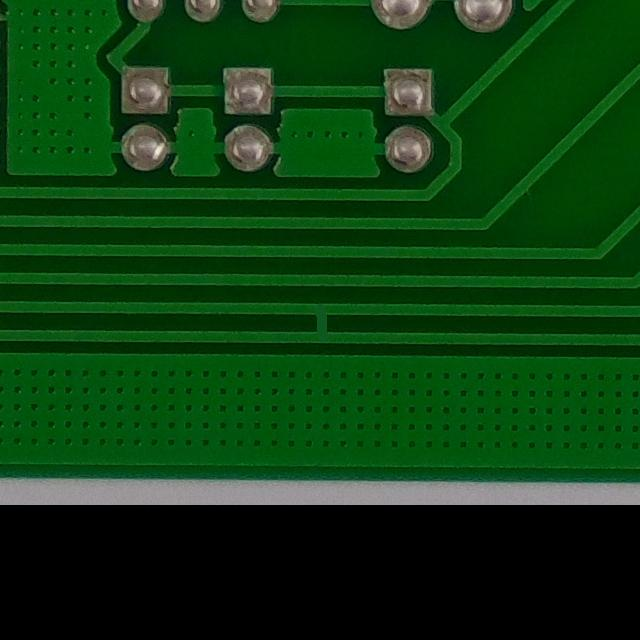short: (290, 294, 350, 346)
